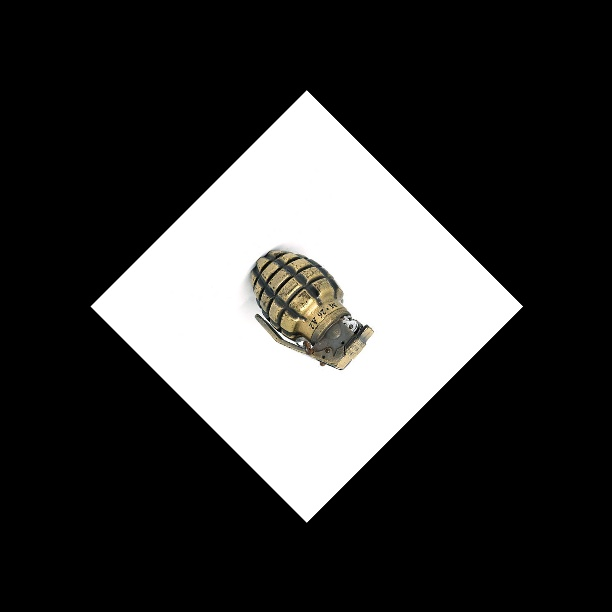e1: (249, 249, 373, 376)
